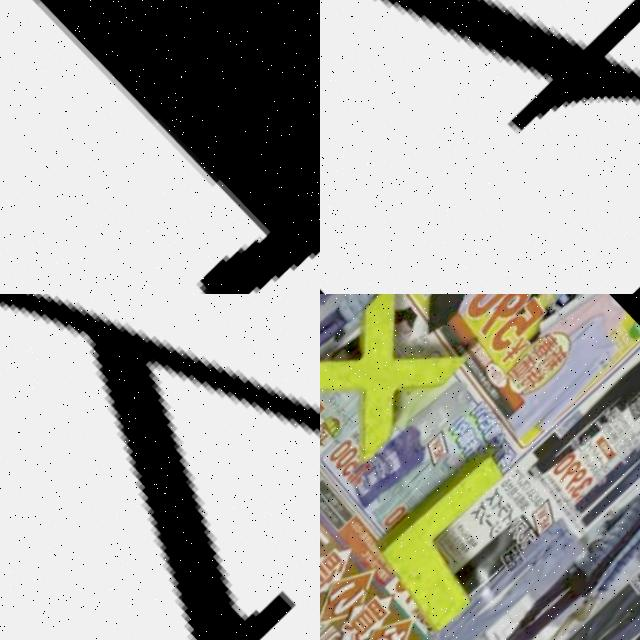1: (0, 0, 320, 294)
L: (361, 443, 555, 640)
T: (320, 0, 640, 290)
X: (320, 294, 475, 476)
Y: (0, 294, 320, 640)
